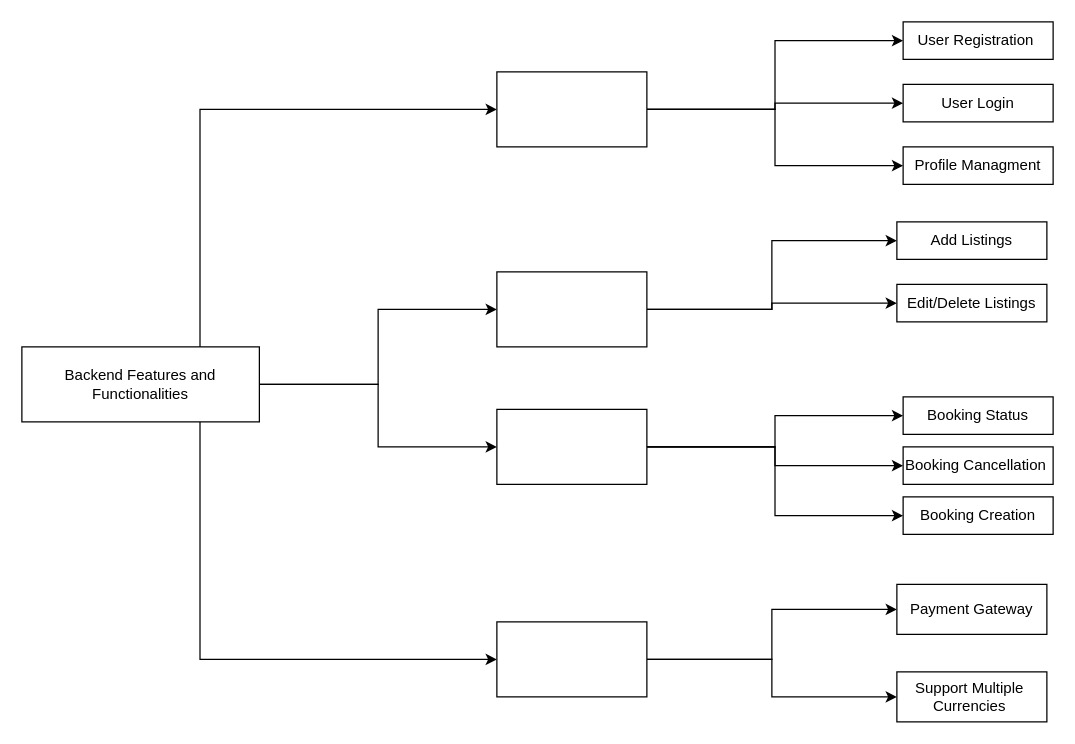
This 1075x744 diagram has some shape labels left out. Here are the shapes that lost their labels. From the top down, the box of each, then its label:
(496, 71, 647, 147): User Authentication
(496, 271, 647, 347): Property Management
(496, 408, 647, 484): Booking System
(496, 621, 647, 697): Payment Sytem
